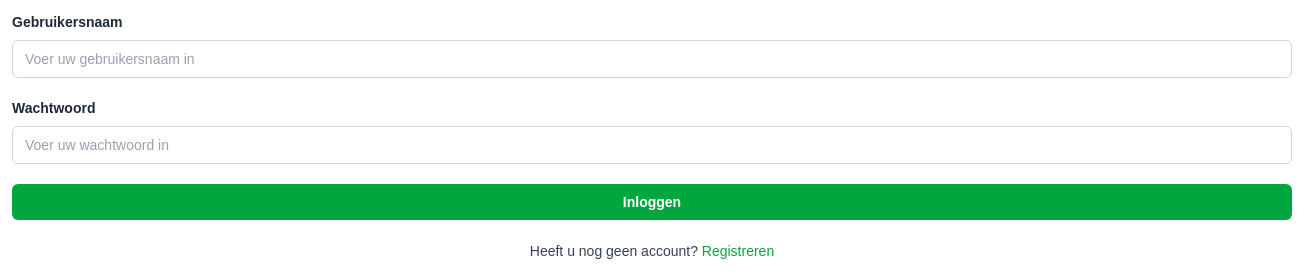
LoginForm › disables inputs and button while loading
This screenshot has width=1304, height=276.
Type "user" into the field with test id "username-input" at (652, 59), box x1=12 y1=40 x2=1292 y2=78
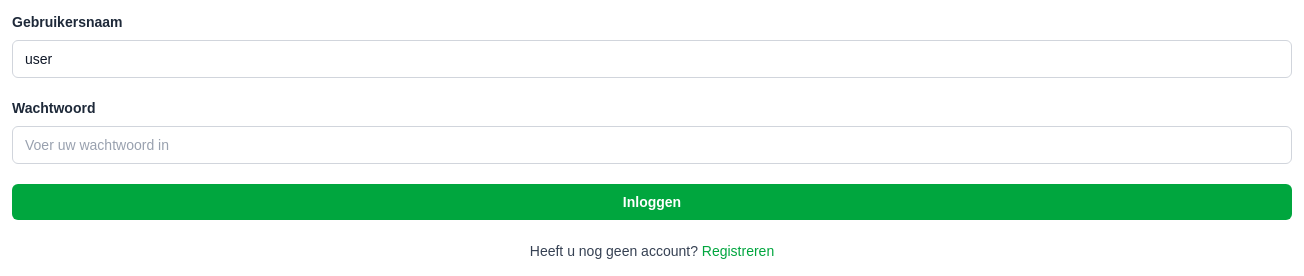
Type "pass" into the password field with test id "password-input" at (652, 145), box x1=12 y1=126 x2=1292 y2=164
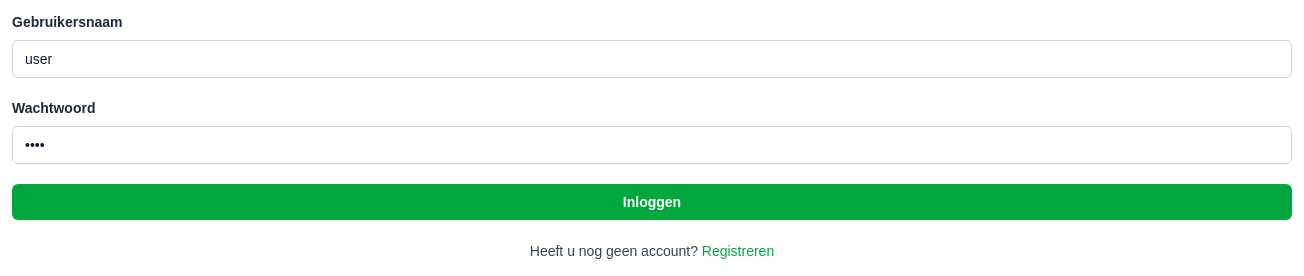
Click the button with test id "login-button" at (652, 202), box x1=12 y1=184 x2=1292 y2=220
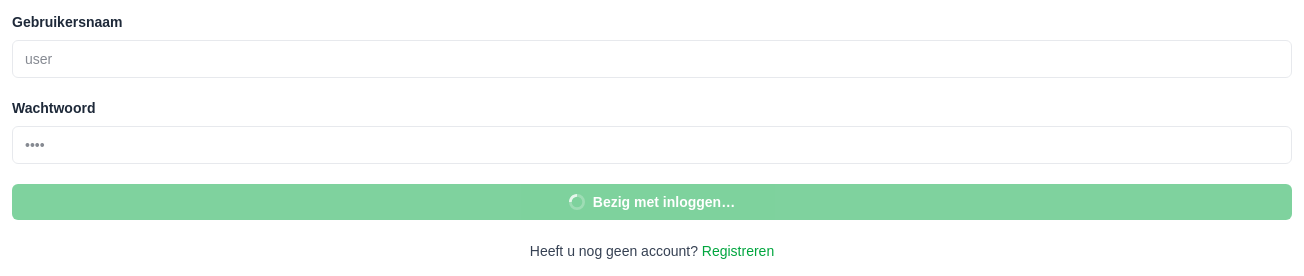
Now the field with test id "username-input" is disabled, box x1=12 y1=40 x2=1292 y2=78
Now the password field with test id "password-input" is disabled, box x1=12 y1=126 x2=1292 y2=164
Now the button with test id "login-button" is disabled, box x1=12 y1=184 x2=1292 y2=220
